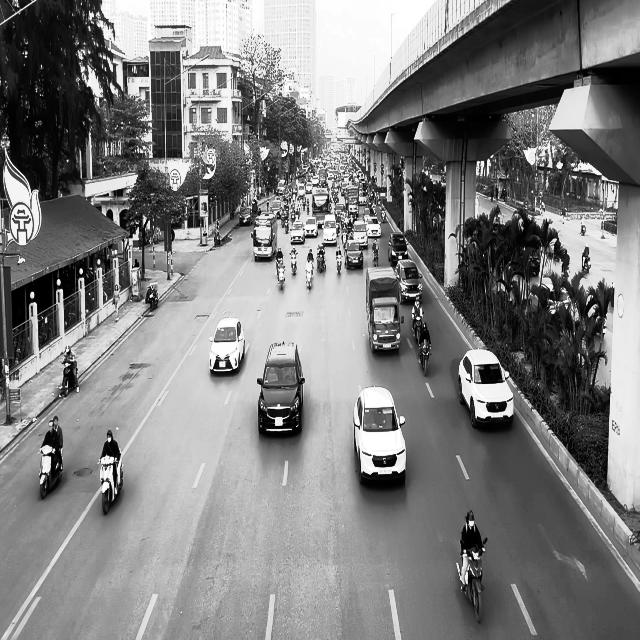car: (353, 386, 406, 486), (256, 340, 305, 436), (457, 348, 514, 429), (208, 316, 245, 374), (394, 259, 423, 303)
motorbike: (456, 537, 487, 623), (98, 451, 123, 514), (38, 443, 63, 499), (59, 360, 79, 397), (418, 339, 432, 376), (146, 284, 158, 310), (412, 313, 422, 343), (276, 259, 285, 289), (305, 262, 313, 290), (316, 250, 326, 272), (581, 253, 591, 273), (290, 250, 297, 274), (336, 249, 342, 274), (372, 246, 379, 266), (214, 230, 221, 247)
